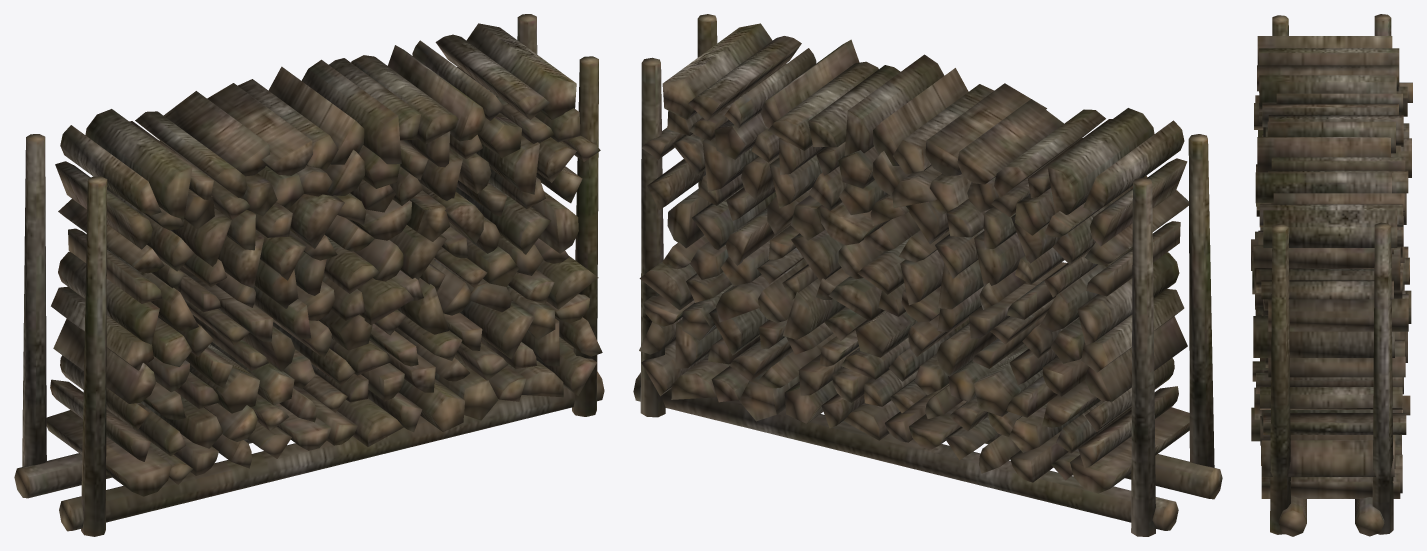
The model's file is firewood_stack.glb.
The picture shows the model from 3 angles, left to right: view 1: azimuth 30°, elevation 25°; view 2: azimuth 150°, elevation 25°; view 3: azimuth 270°, elevation 25°; orthographic projection. The views are drawn at different scales.
Visible parts, largest first — view 1: firewood_stack; view 2: firewood_stack; view 3: firewood_stack.
Part boxes in pixels (<box>): firewood_stack: <box>14,14,604,536</box>; firewood_stack: <box>633,14,1222,536</box>; firewood_stack: <box>1251,14,1412,536</box>.
Size of the model in its own units: 1.66 by 1.06 by 0.5056.
1 material, 1 textured.
